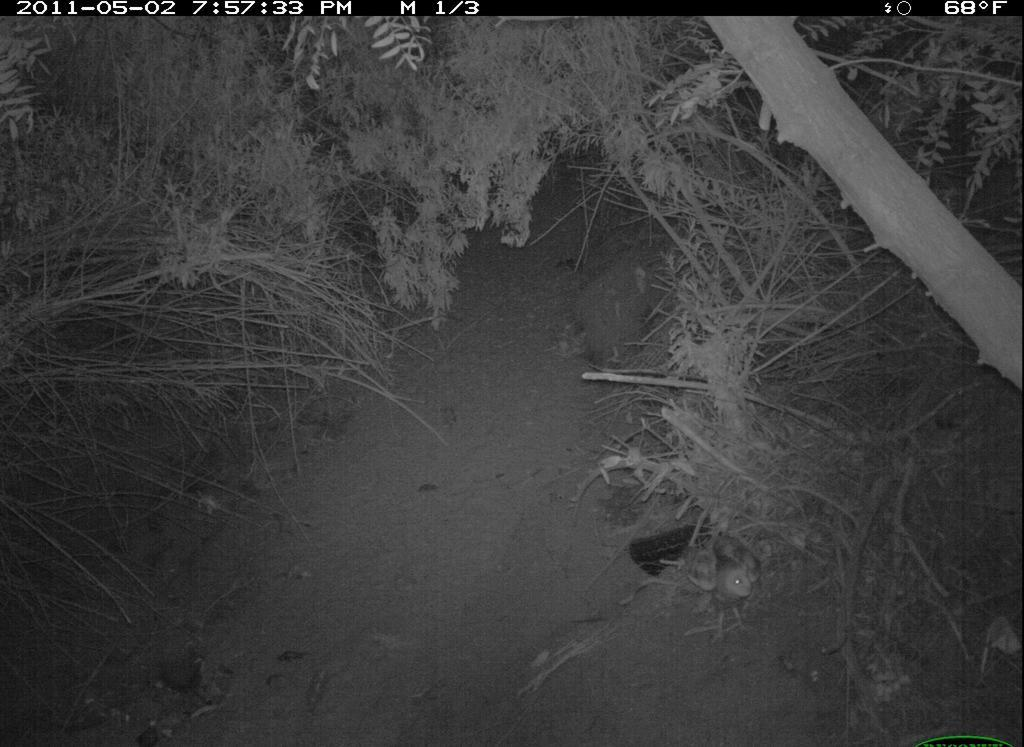bird: (685, 533, 772, 648)
